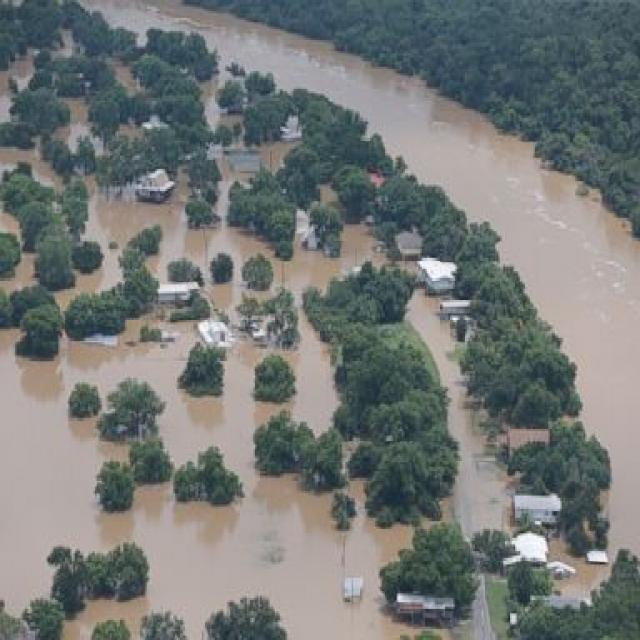flood: (84, 0, 640, 552), (0, 310, 412, 640), (407, 290, 513, 536), (89, 189, 270, 312), (249, 225, 386, 306)
house: (412, 256, 458, 294), (512, 492, 561, 526), (134, 168, 177, 204)
